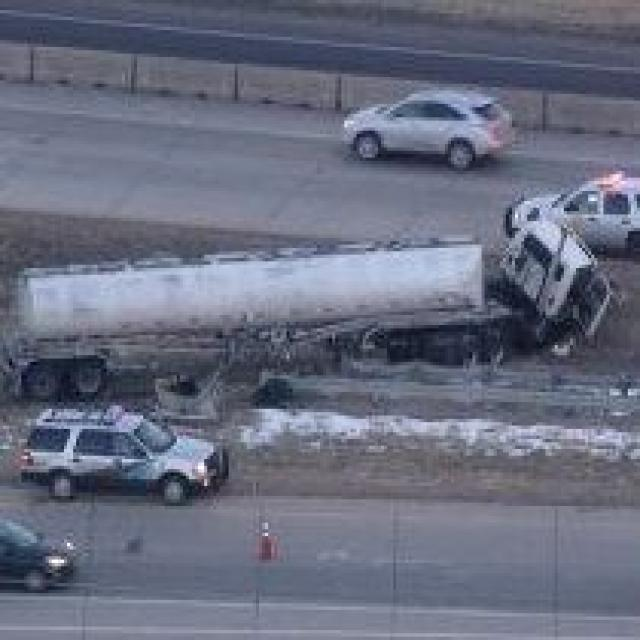traffic_incident: (6, 201, 616, 385)
